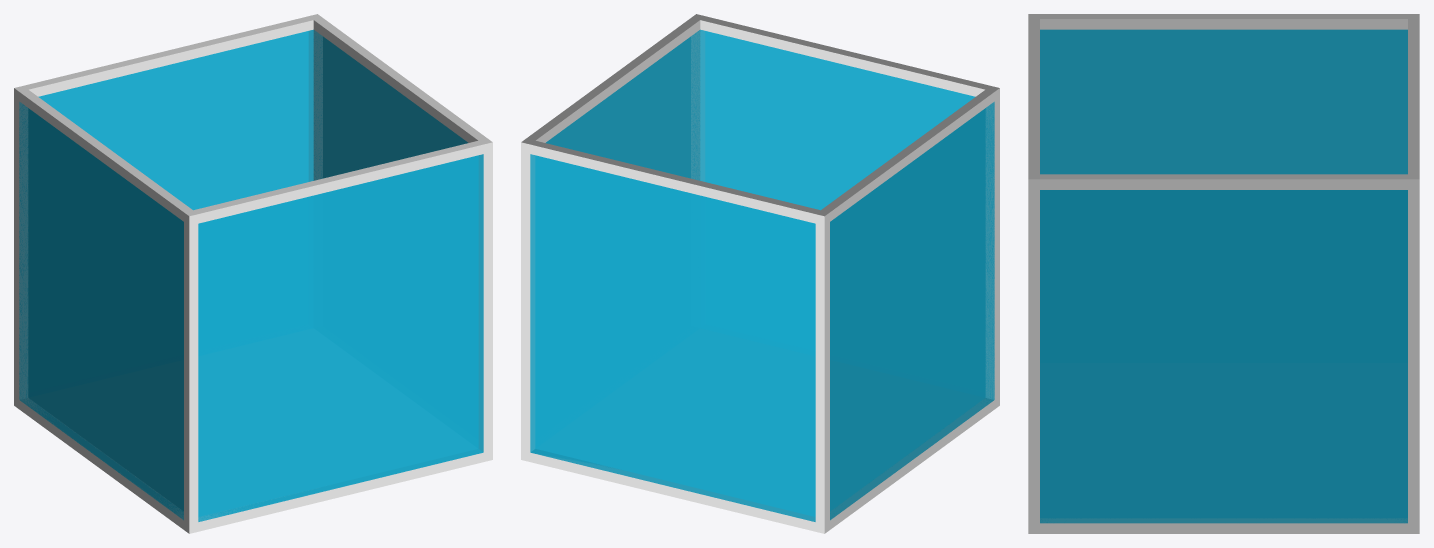
The model's file is dg-ic-WaterTank.glb.
3 views of the same model, side by side, from view 1: azimuth 30°, elevation 25°; view 2: azimuth 150°, elevation 25°; view 3: azimuth 270°, elevation 25° (orthographic). The views are drawn at different scales.
Parts seen in each view (by area): view 1: Component; view 2: Component; view 3: Component.
Part boxes in pixels (box(x1,y1,x2,y2)): Component: box(14, 14, 492, 533); Component: box(521, 14, 999, 533); Component: box(1028, 14, 1419, 533).
Size of the model in its own units: 38.75 by 38.75 by 38.75.
